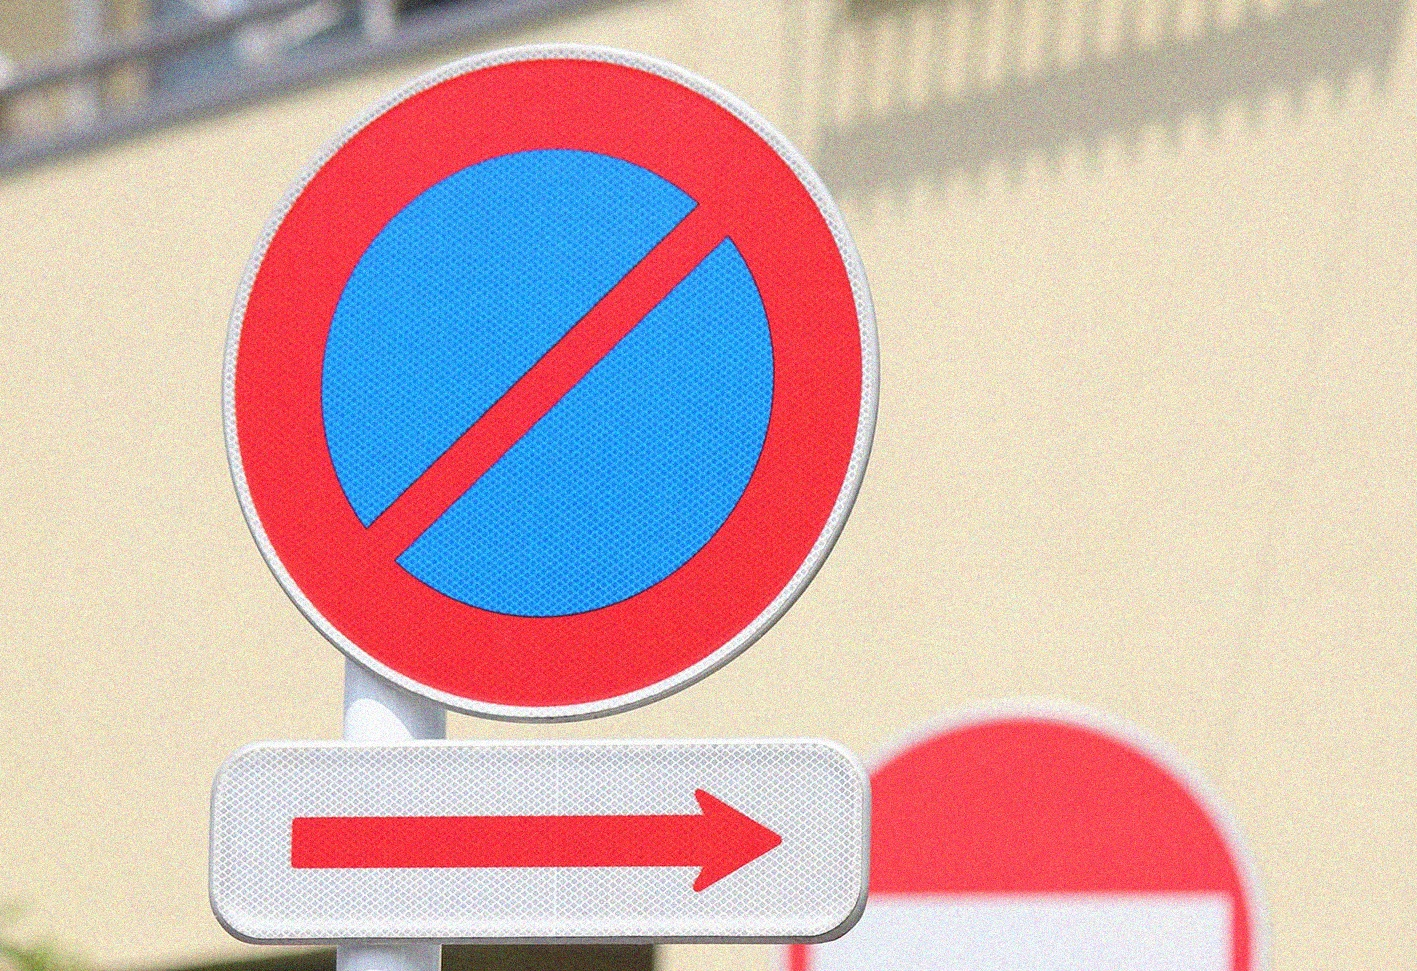Prohibition_sign: (196, 74, 897, 744)
